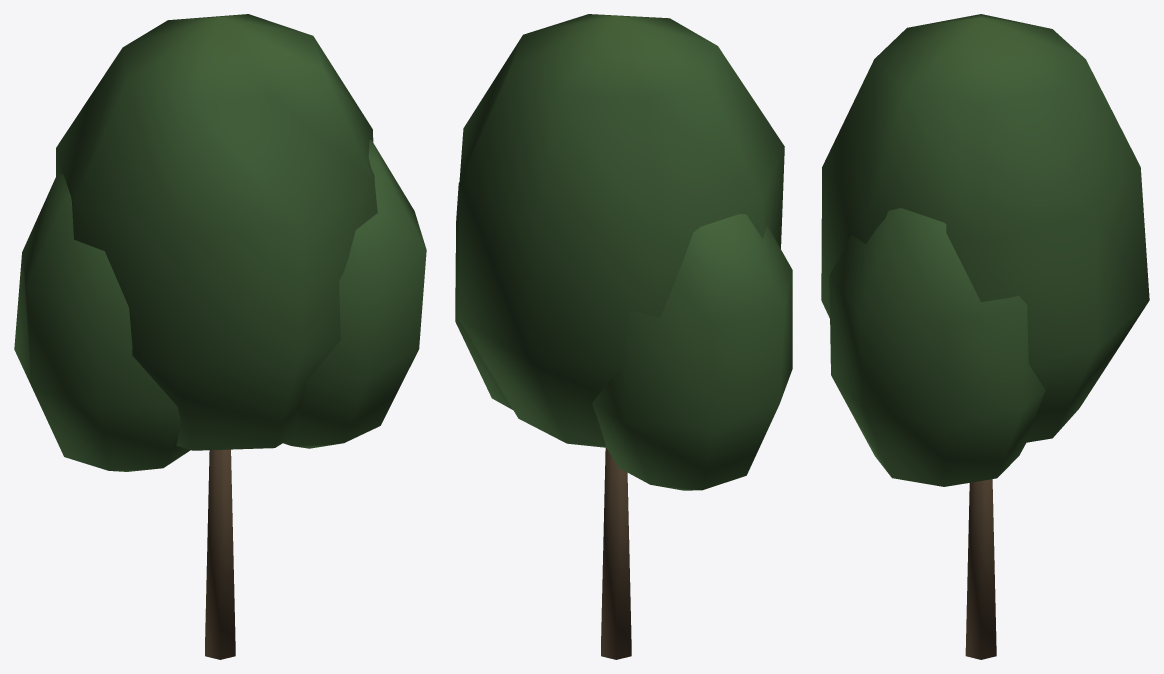
File: tree_lod0.glb
3 renders of one model, left to right at view 1: azimuth 30°, elevation 25°; view 2: azimuth 150°, elevation 25°; view 3: azimuth 270°, elevation 25°, orthographic.
Visible parts, largest first — view 1: SEU_TREE_GENERIC_LOD0; view 2: SEU_TREE_GENERIC_LOD0; view 3: SEU_TREE_GENERIC_LOD0.
Boxes of the visible parts, box(x1,y1,x2,y2) form: SEU_TREE_GENERIC_LOD0: box(14, 14, 426, 659); SEU_TREE_GENERIC_LOD0: box(455, 14, 792, 659); SEU_TREE_GENERIC_LOD0: box(821, 14, 1149, 659).
Size of the model in its own units: 5.87 by 10 by 4.69.
